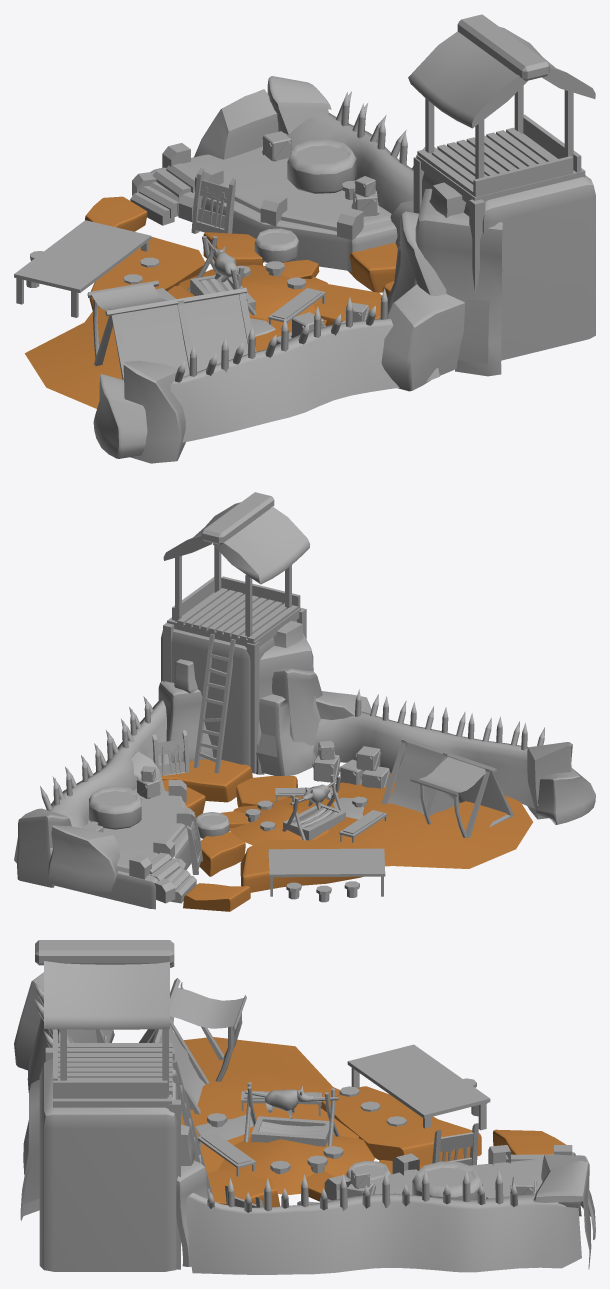
Rendered from BarracksMultiElement.fbx.
3 views of the same model, one above another, from view 1: azimuth 30°, elevation 25°; view 2: azimuth 150°, elevation 25°; view 3: azimuth 270°, elevation 25° (orthographic). The views are drawn at different scales.
Visible parts, largest first — view 1: Barrack_UV:transform637; view 2: Barrack_UV:transform637; view 3: Barrack_UV:transform637.
Boxes of the visible parts, x1=… form: Barrack_UV:transform637: x1=14, y1=14, x2=595, y2=463; Barrack_UV:transform637: x1=14, y1=492, x2=595, y2=911; Barrack_UV:transform637: x1=14, y1=940, x2=595, y2=1274.
Size of the model in its own units: 1.05 by 0.6232 by 1.06.
